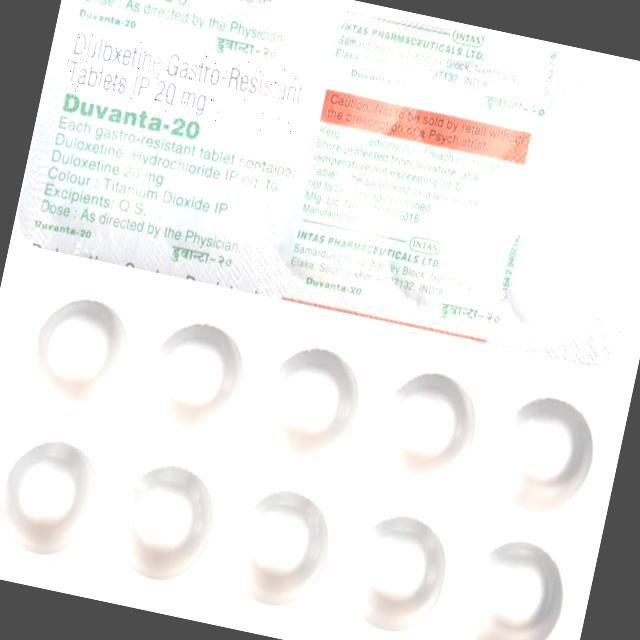Medicine-name: (60, 25, 315, 141)
